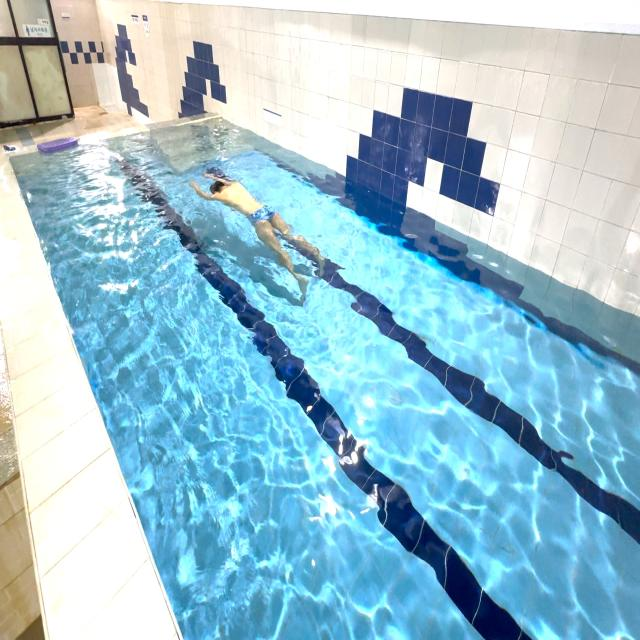Drowning: (176, 149, 334, 305)
